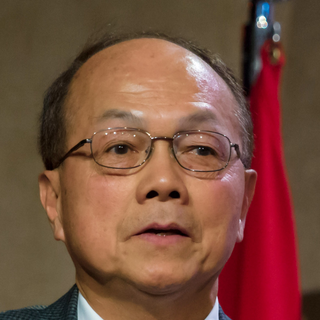eye: (96, 135, 139, 162), (182, 141, 219, 162)
